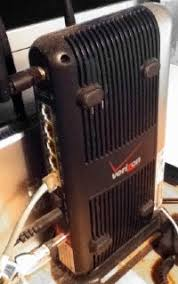Verizon Router: (46, 28, 178, 259)
